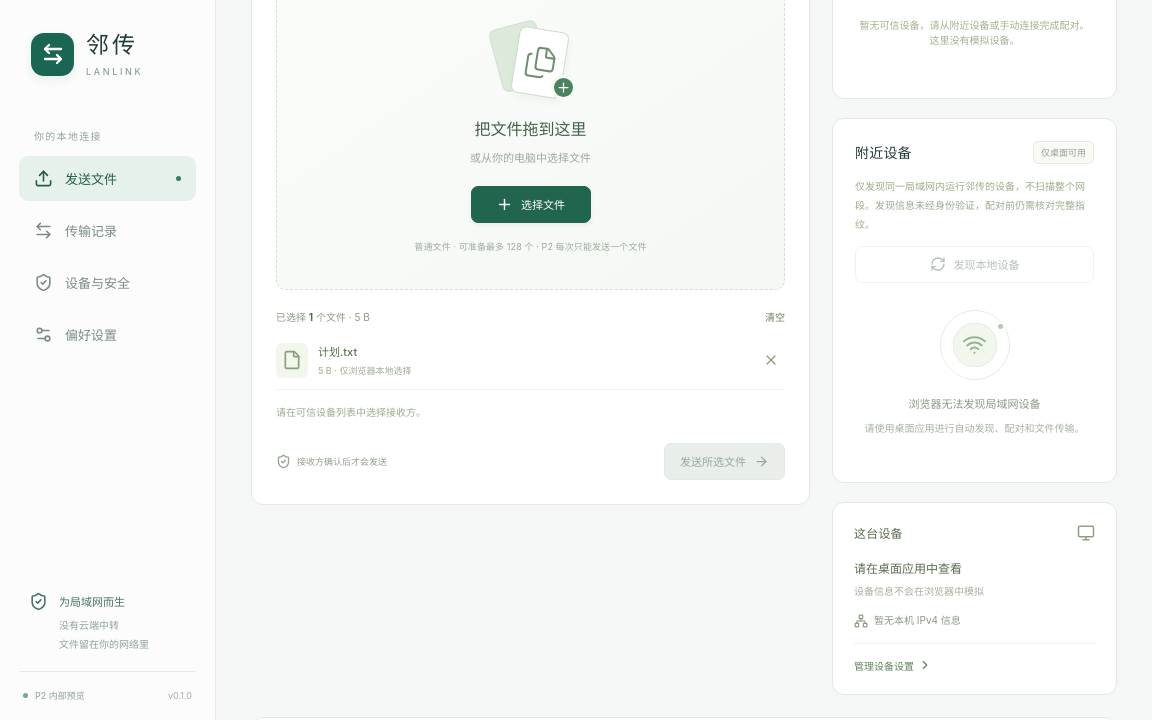
Test: browser preview › allows choosing, deduplicating and removing real local preview files without sending
Earlier steps of the test are not shown.
(page scrolled)
Expected: the text "计划.txt" is shown, [318,345,357,359]
Expected: the button "发送所选文件" is disabled, [664,443,785,480]
Click the button named "移除 计划.txt" at (771, 360), box [757,346,785,374]
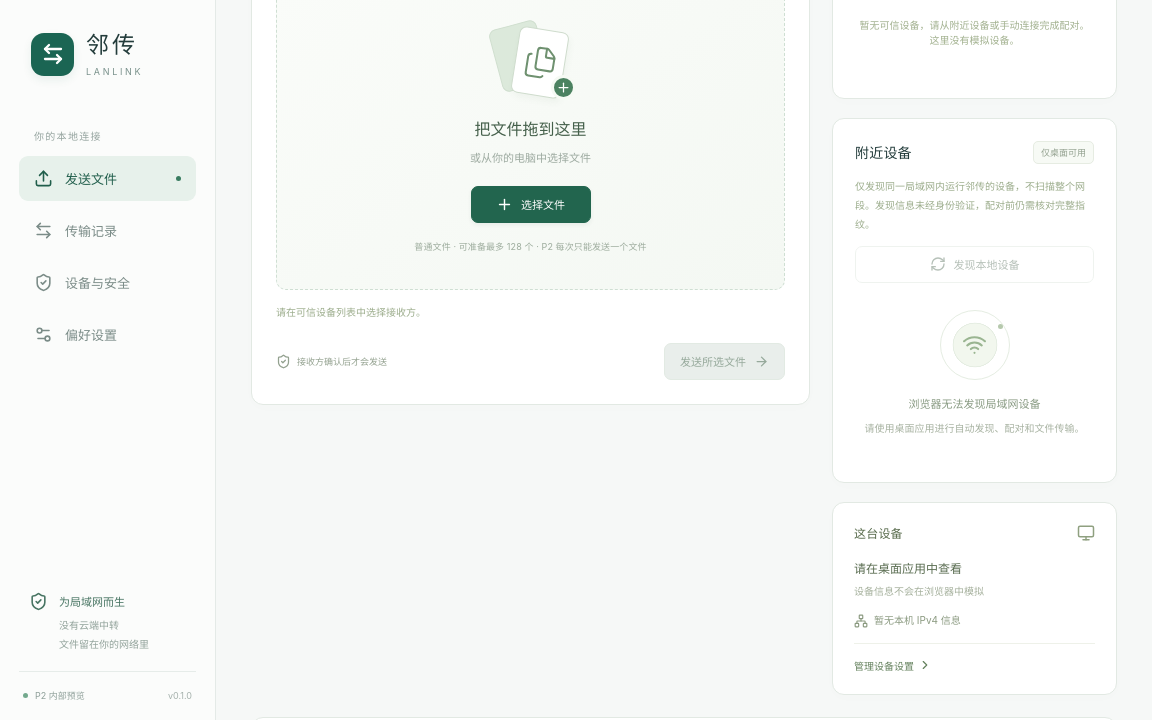
Now the text "计划.txt" is gone
